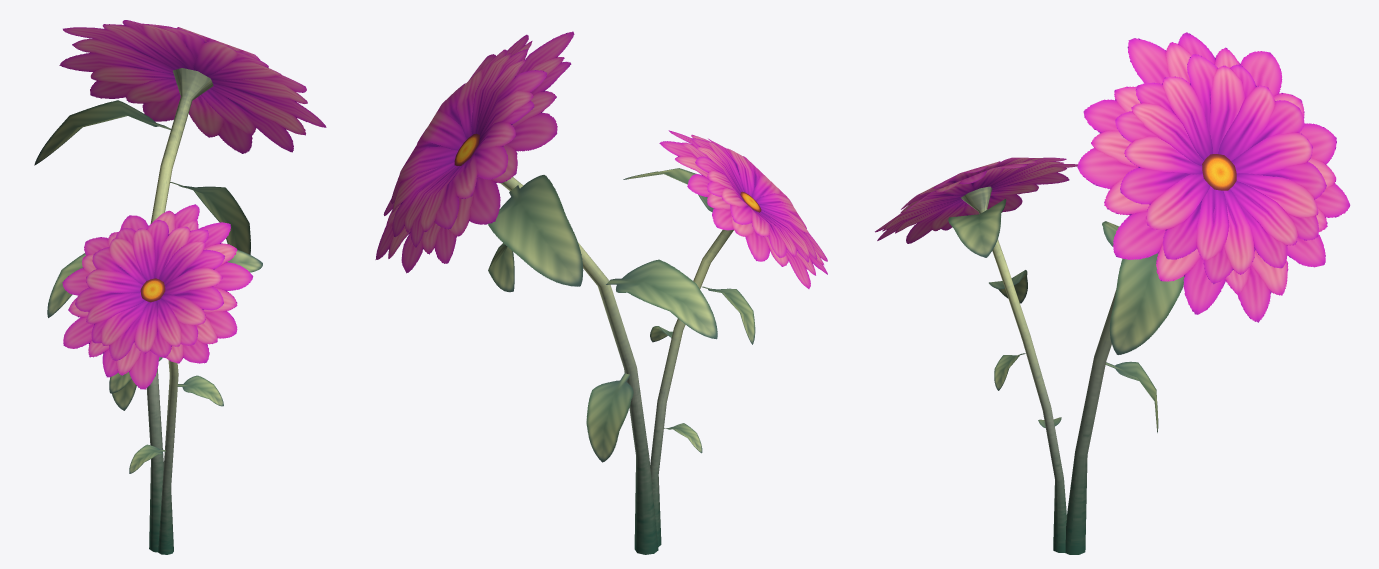
Rendered from ENV1110021.FBX.
The picture shows the model from 3 angles, left to right: view 1: azimuth 30°, elevation 25°; view 2: azimuth 150°, elevation 25°; view 3: azimuth 270°, elevation 25°; orthographic projection. The views are drawn at different scales.
Parts seen in each view (by area): view 1: smENV1110021; view 2: smENV1110021; view 3: smENV1110021.
Boxes of the visible parts, x1,y1,x2,y2 form: smENV1110021: (34,20,326,554); smENV1110021: (375,31,827,554); smENV1110021: (875,32,1350,554).
Bounding box in the file's own units: 9.63 × 13.96 × 11.78.
1 material, 1 textured.
